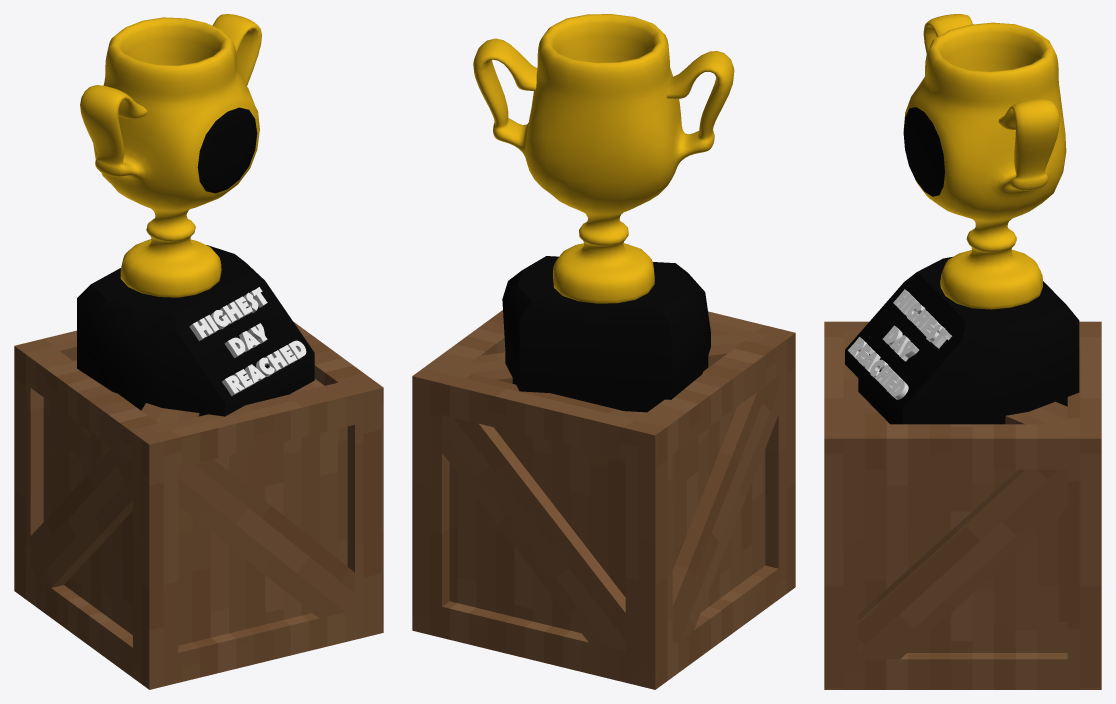
Rendered from trophy_table.fbx.
The picture shows the model from 3 angles, left to right: view 1: azimuth 30°, elevation 25°; view 2: azimuth 150°, elevation 25°; view 3: azimuth 270°, elevation 25°; orthographic projection. The views are drawn at different scales.
Visible parts, largest first — view 1: FactoryBox.001, Cube.002, Cube.003, Text.003; view 2: FactoryBox.001, Cube.002, Cube.003; view 3: FactoryBox.001, Cube.002, Cube.003, Text.003.
Part boxes in pixels (bbox=[...]): FactoryBox.001: bbox=[14, 322, 383, 689]; Cube.002: bbox=[80, 14, 261, 297]; Cube.003: bbox=[77, 245, 314, 416]; Text.003: bbox=[189, 287, 306, 395]; FactoryBox.001: bbox=[412, 310, 795, 689]; Cube.002: bbox=[473, 14, 734, 303]; Cube.003: bbox=[502, 256, 710, 412]; FactoryBox.001: bbox=[824, 321, 1101, 689]; Cube.002: bbox=[903, 14, 1066, 309]; Cube.003: bbox=[845, 257, 1079, 424]; Text.003: bbox=[848, 289, 951, 399].
Size of the model in its own units: 1007 by 2296 by 1000.
